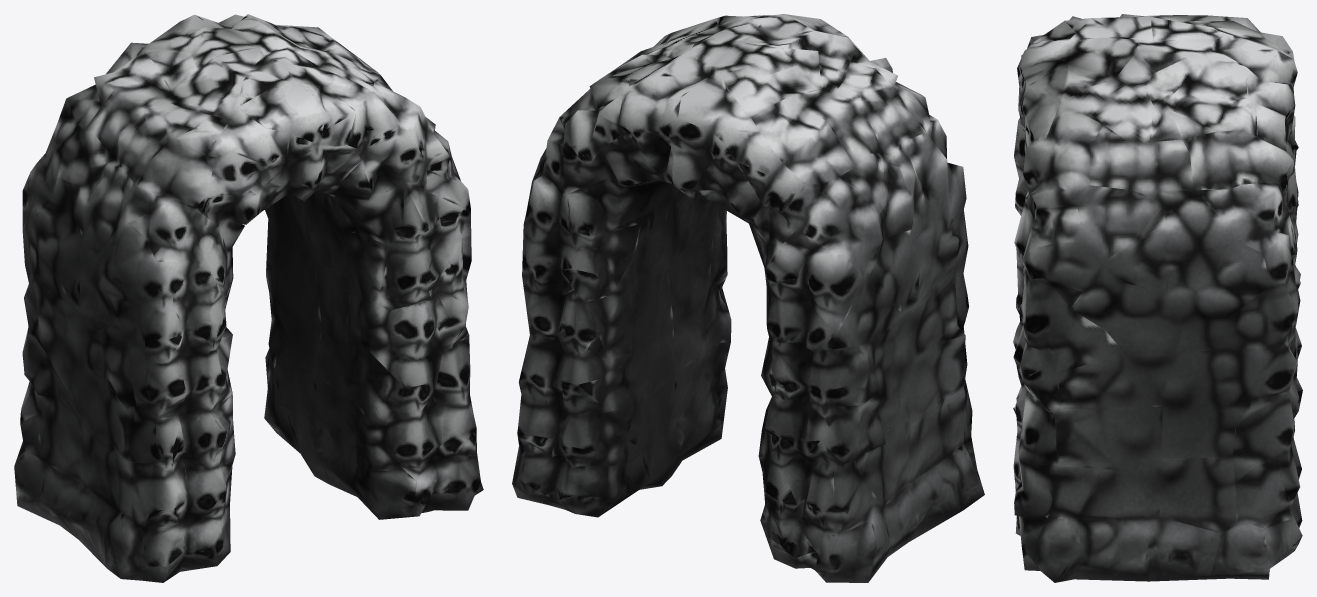
Rendered from ossuary_skull_arch.glb.
The picture shows the model from 3 angles, left to right: view 1: azimuth 30°, elevation 25°; view 2: azimuth 150°, elevation 25°; view 3: azimuth 270°, elevation 25°; orthographic projection.
Size of the model in its own units: 1.69 by 2 by 1.14.
Materials: 1 (1 with a texture image).
